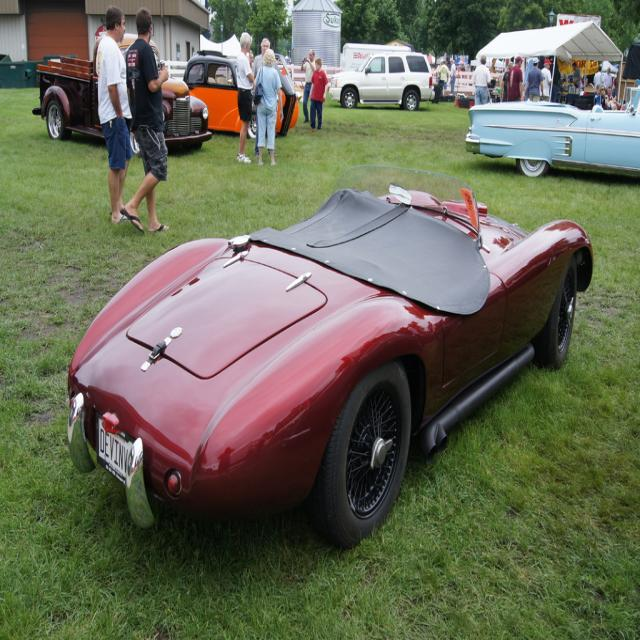car: (51, 169, 567, 547), (328, 51, 433, 107)
